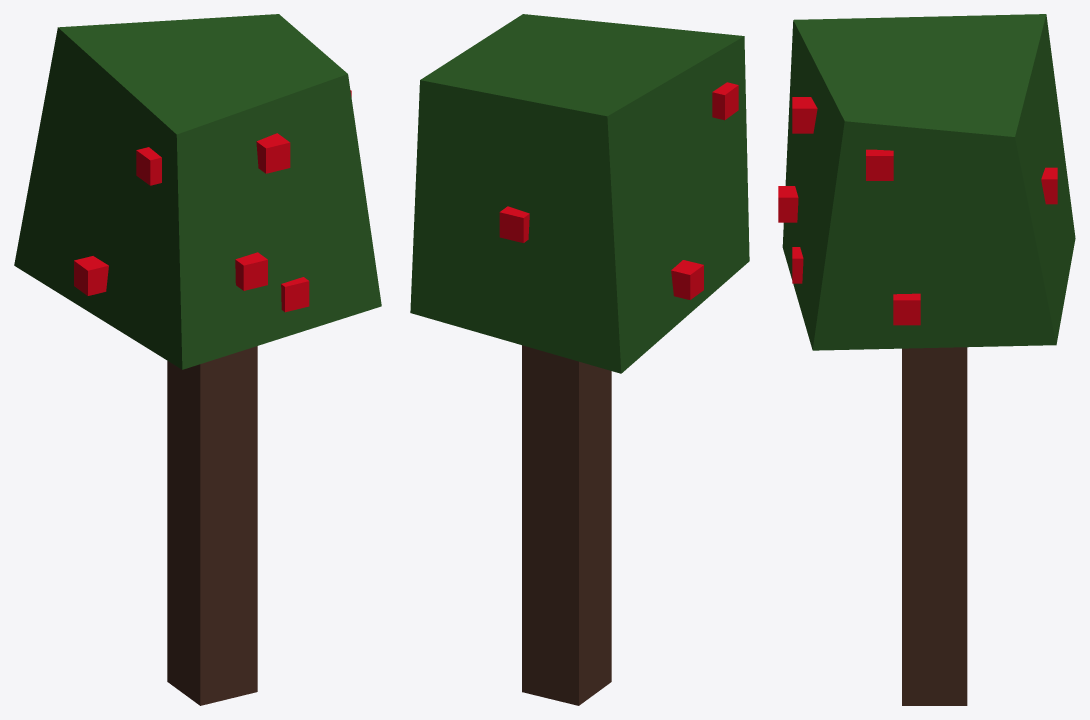
File: AppleTree.fbx
3 views of the same model, side by side, from view 1: azimuth 30°, elevation 25°; view 2: azimuth 150°, elevation 25°; view 3: azimuth 270°, elevation 25° (orthographic).
Parts seen in each view (by area): view 1: Cube.006; view 2: Cube.006; view 3: Cube.006.
Boxes of the visible parts, x1=… form: Cube.006: x1=14, y1=14, x2=381, y2=705; Cube.006: x1=410, y1=14, x2=749, y2=705; Cube.006: x1=778, y1=14, x2=1075, y2=705.
Bounding box in the file's own units: 227 × 571 × 244.
